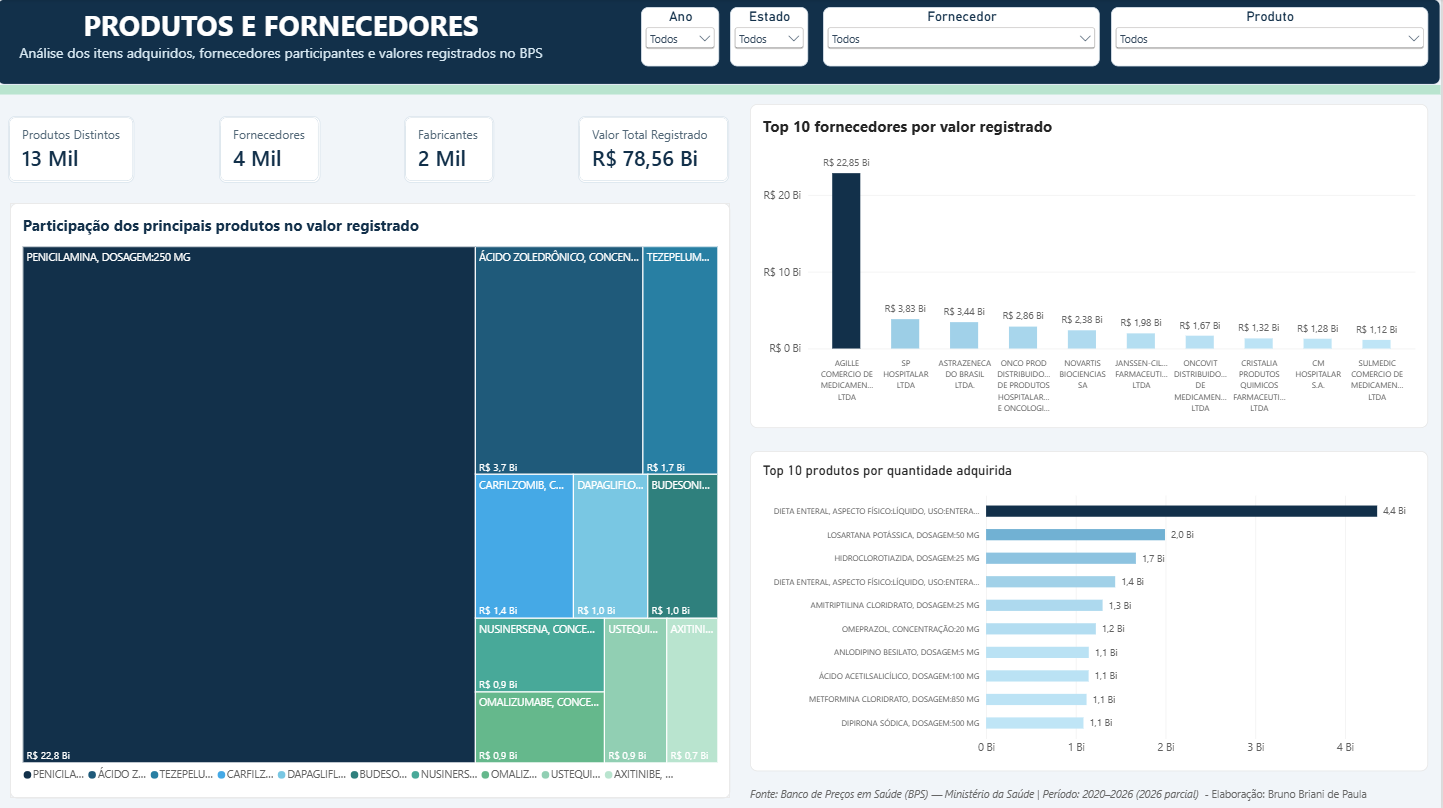

The page's visual inventory and layout, read from the dashboard file:
{"tool":"powerbi","page":{"name":"Produtos e Fornecedores","canvas":[1920,1080],"ordinal":1},"visuals":[{"type":"shape","box":[0,114.2,1920,12.7],"z":0},{"type":"shape","box":[0,0,1920,114.2],"z":1000},{"type":"treemap","title":"Participação dos principais produtos no valor registrado","fields":{"Group":["Fato_BPS.descricao_catmat"],"Values":["Medidas.Valor Total Registrado"]},"box":[16.7,271.7,958.3,791.7],"z":2000},{"type":"barChart","title":"Top 10 produtos por quantidade adquirida","fields":{"Category":["Fato_BPS.descricao_catmat"],"Y":["Fato_BPS.Quantidade Total de Itens"]},"box":[1002,600.9,902.1,426.5],"z":3000},{"type":"clusteredColumnChart","title":"Top 10 fornecedores por valor registrado","fields":{"Category":["Fato_BPS.fornecedor"],"Y":["Medidas.Valor Total Registrado"]},"box":[1002,139.5,902.1,431.2],"z":4000},{"type":"textbox","box":[14.3,9.5,726.1,117.3],"z":5000},{"type":"slicer","title":"Produto","fields":{"Values":["Fato_BPS.descricao_catmat"]},"box":[1482.3,10.2,421.6,78.8],"z":6000},{"type":"slicer","title":"Fornecedor","fields":{"Values":["Fato_BPS.fornecedor"]},"box":[1098.6,10.2,367.7,78.8],"z":7000},{"type":"slicer","title":"Ano","fields":{"Values":["Dim_Calendario.Ano"]},"box":[856.4,10.2,103.6,78.8],"z":8000},{"type":"slicer","title":"Estado","fields":{"Values":["Fato_BPS.uf"]},"box":[974.6,10.2,103.6,78.8],"z":9000},{"type":"cardVisual","fields":{"Data":["Dim_Calendario.Produtos Distintos"]},"box":[15,155,168.1,88.8],"z":10000},{"type":"cardVisual","fields":{"Data":["Dim_Calendario.Fabricantes"]},"box":[541.2,155,120.5,88.8],"z":11000},{"type":"cardVisual","fields":{"Data":["Medidas.Valor Total Registrado"]},"box":[773.3,155,201.4,88.8],"z":12000},{"type":"cardVisual","fields":{"Data":["Medidas.Fornecedores"]},"box":[294.7,155,134.8,88.8],"z":13000},{"type":"textbox","box":[1002,1048,902.1,31.7],"z":14000}]}

Visuals, with their boxes in screenshot pixels (x1, y1, x2, y2), scaled from the page's 1920x1080 canvas onto the 1443x808 screenshot:
shape: 0,85,1442,95
shape: 0,0,1442,85
"Participação dos principais produtos no valor registrado" treemap: 13,203,733,796
"Top 10 produtos por quantidade adquirida" barChart: 753,450,1431,769
"Top 10 fornecedores por valor registrado" clusteredColumnChart: 753,104,1431,427
textbox: 11,7,556,95
"Produto" slicer: 1114,8,1431,67
"Fornecedor" slicer: 826,8,1102,67
"Ano" slicer: 644,8,722,67
"Estado" slicer: 732,8,810,67
cardVisual - Dim_Calendario.Produtos Distintos: 11,116,138,182
cardVisual - Dim_Calendario.Fabricantes: 407,116,497,182
cardVisual - Medidas.Valor Total Registrado: 581,116,733,182
cardVisual - Medidas.Fornecedores: 221,116,323,182
textbox: 753,784,1431,807
